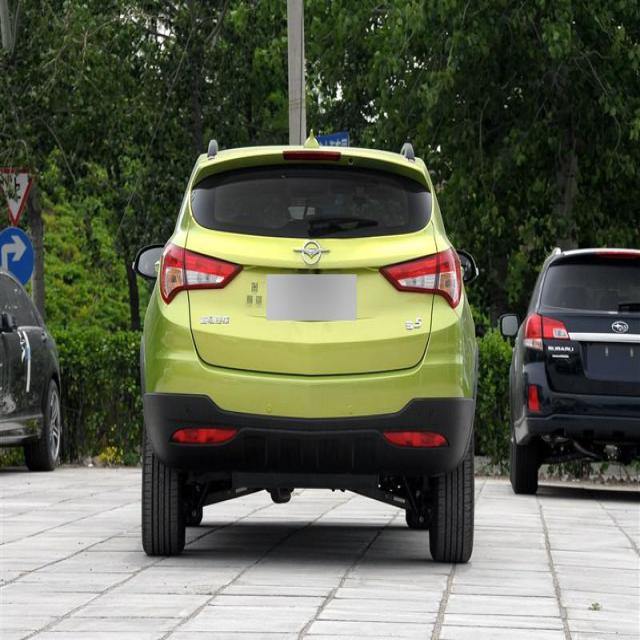back_glass: (189, 159, 434, 241)
back_left_side_light: (159, 240, 244, 306)
back_right_side_light: (378, 245, 464, 310)
front_left_side_mirror: (133, 241, 165, 280)
front_right_side_mirror: (454, 247, 479, 286)
rear_bumper: (139, 391, 478, 476)
wheel: (428, 421, 476, 563), (140, 420, 186, 560)
